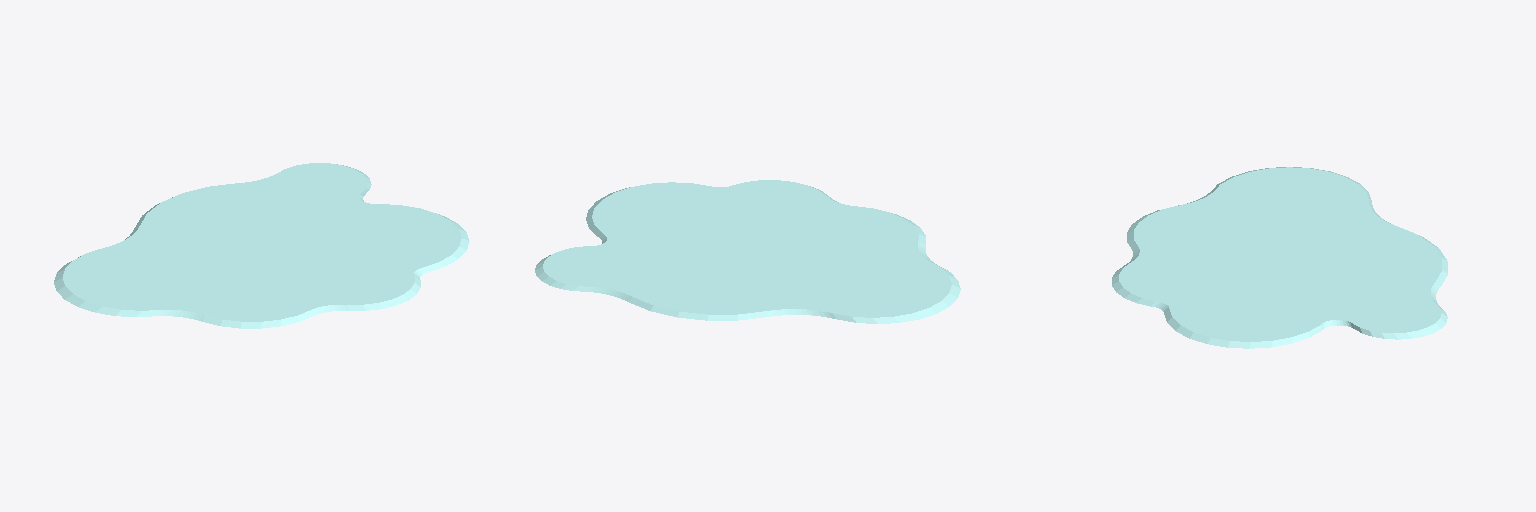
The model's file is snowPatch.obj.
The picture shows the model from 3 angles: view 1: azimuth 30°, elevation 25°; view 2: azimuth 150°, elevation 25°; view 3: azimuth 270°, elevation 25°; orthographic projection.
Parts seen in each view (by area): view 1: snowPatch; view 2: snowPatch; view 3: snowPatch.
Part boxes in pixels (x1,y1,x2,y2): snowPatch: (54,163,469,328); snowPatch: (535,180,960,323); snowPatch: (1112,167,1447,348).
Bounding box in the file's own units: 3.26 × 0.03 × 2.55.